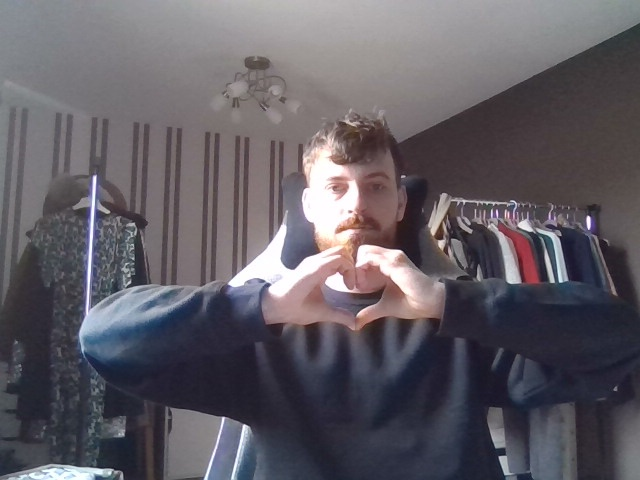Love: (261, 233, 448, 357)
